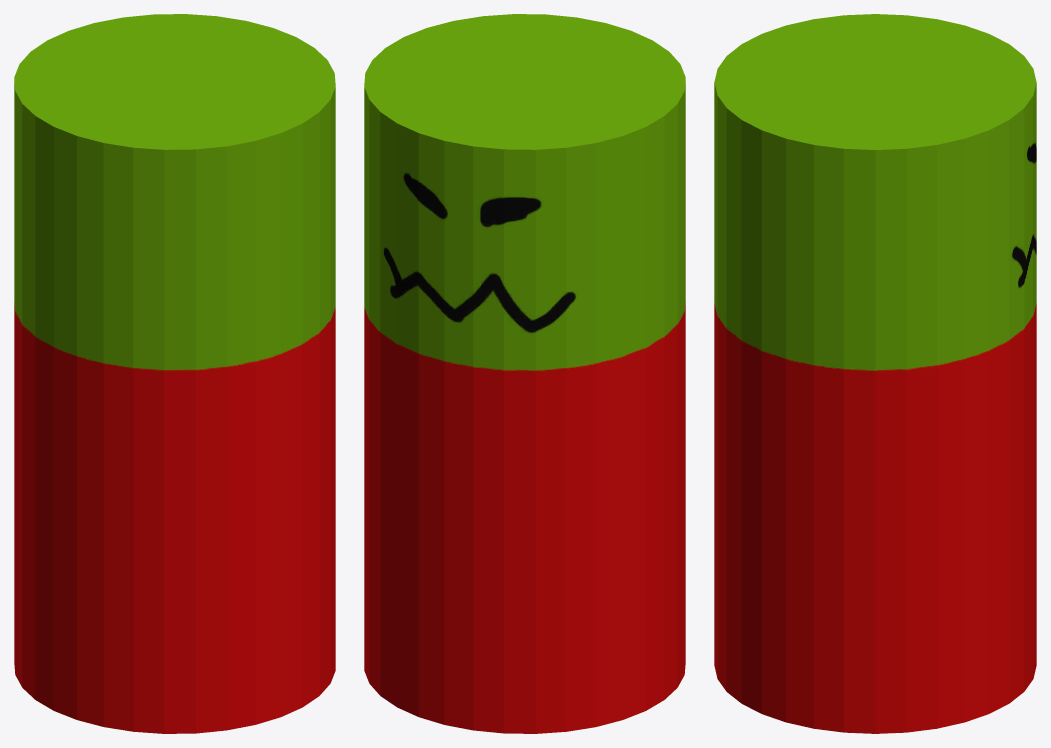
The model's file is testenemy.obj.
3 renders of one model, left to right at view 1: azimuth 30°, elevation 25°; view 2: azimuth 150°, elevation 25°; view 3: azimuth 270°, elevation 25°, orthographic.
Parts seen in each view (by area): view 1: Cylinder_Cylinder.002; view 2: Cylinder_Cylinder.002; view 3: Cylinder_Cylinder.002.
Part boxes in pixels (box(x1,y1,x2,y2)): Cylinder_Cylinder.002: box(14, 14, 335, 733); Cylinder_Cylinder.002: box(364, 14, 685, 733); Cylinder_Cylinder.002: box(714, 14, 1036, 733).
Size of the model in its own units: 1 by 2 by 1.
